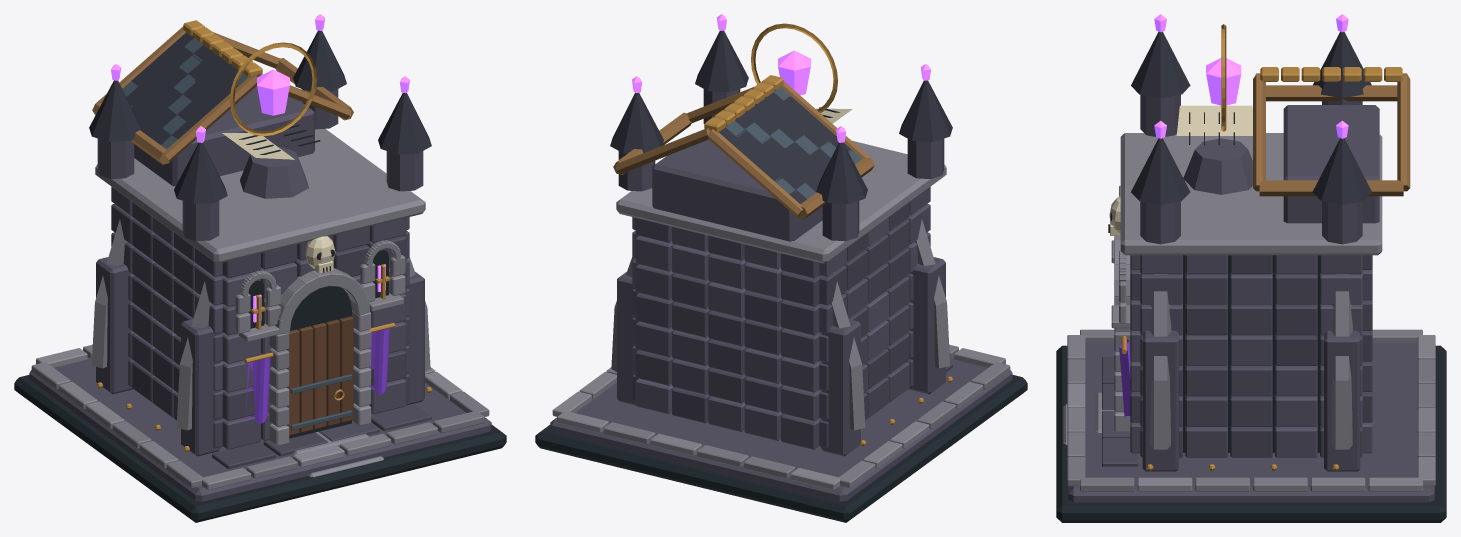
The model's file is necro__lich__L05.glb.
3 renders of one model, left to right at view 1: azimuth 30°, elevation 25°; view 2: azimuth 150°, elevation 25°; view 3: azimuth 270°, elevation 25°, orthographic. The views are drawn at different scales.
Parts seen in each view (by area): view 1: structure, weapon, banners; view 2: structure, weapon; view 3: structure, weapon, banners.
Part boxes in pixels (x1,y1,x2,y2): structure: (14, 14, 506, 522); weapon: (222, 42, 320, 198); banners: (244, 323, 395, 424); structure: (535, 14, 1027, 522); weapon: (751, 23, 852, 123); structure: (1056, 14, 1446, 522); weapon: (1176, 24, 1252, 194); banners: (1119, 335, 1130, 416).
Bounding box in the file's own units: 0.803 × 0.9405 × 0.803.
